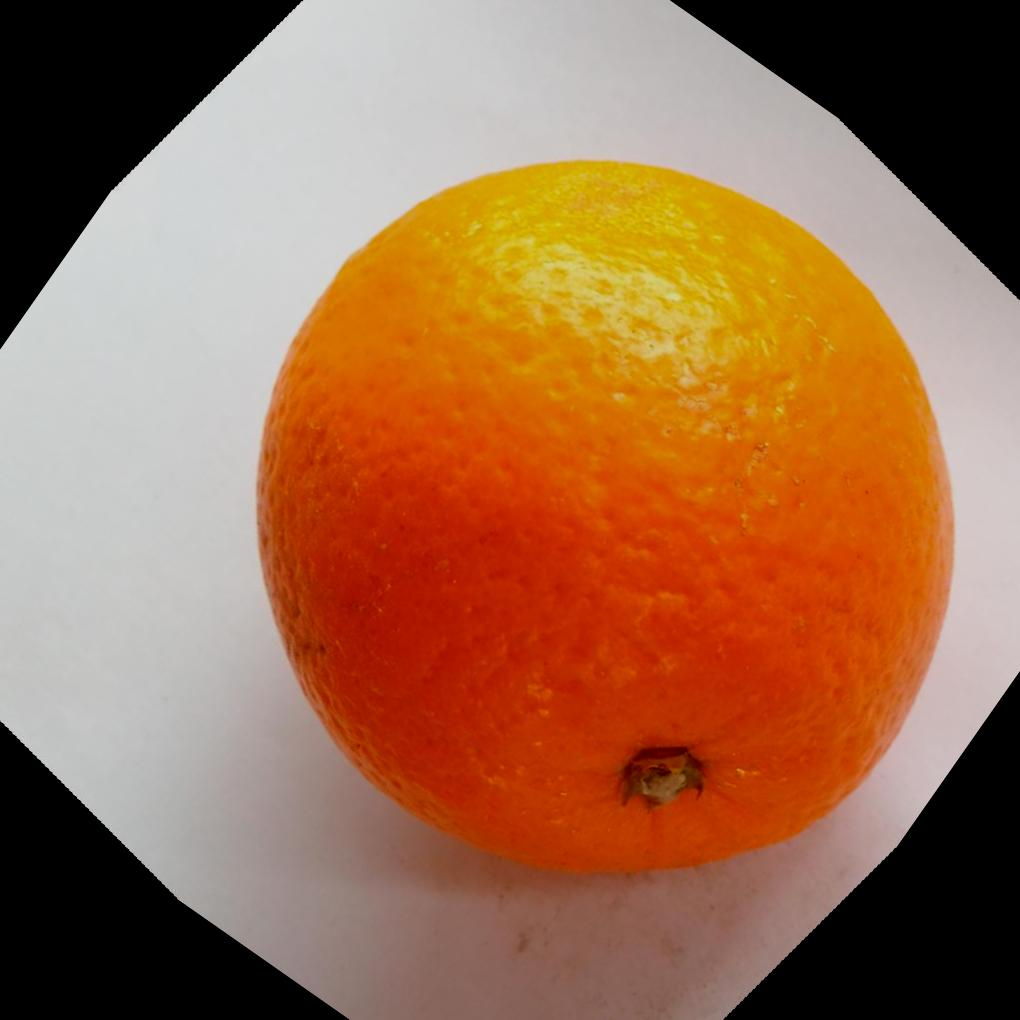FreshGuava: (255, 158, 959, 879)
